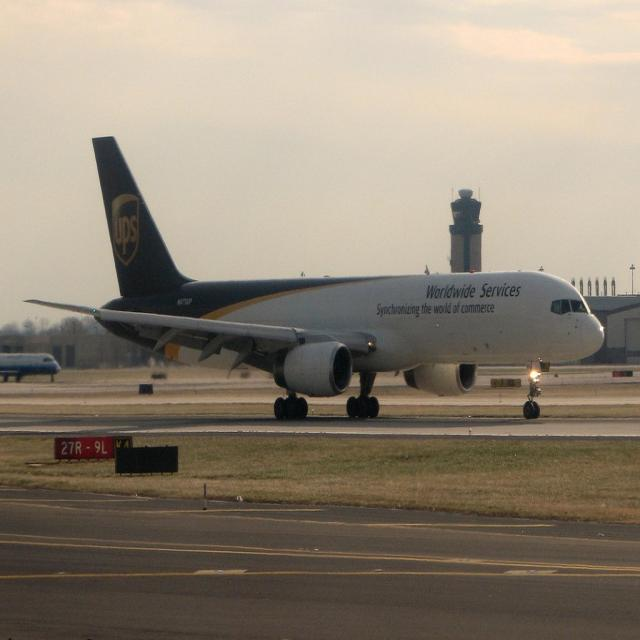ups: (114, 195, 141, 265)
